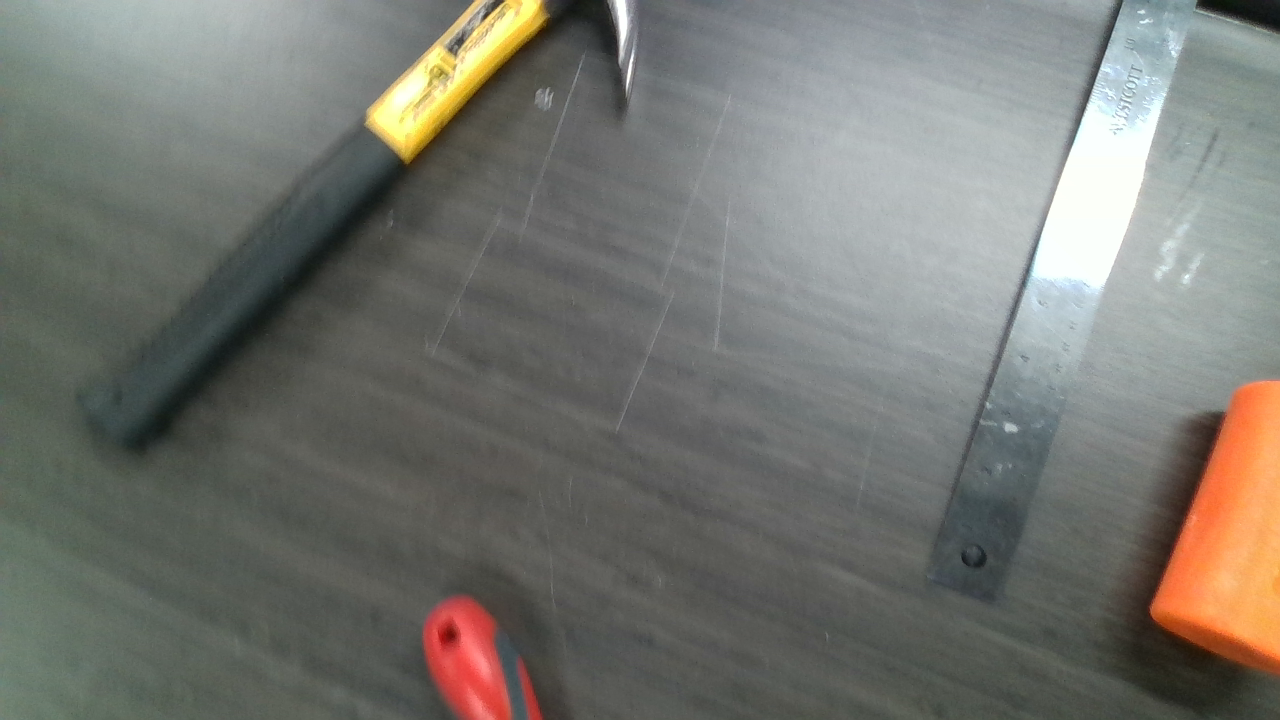Orange Hammer: (1151, 383, 1280, 667)
